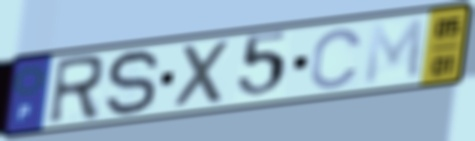5: (235, 29, 291, 104)
C: (307, 26, 365, 92)
M: (362, 16, 427, 88)
R: (44, 52, 107, 129)
S: (104, 47, 163, 121)
X: (173, 37, 235, 112)
